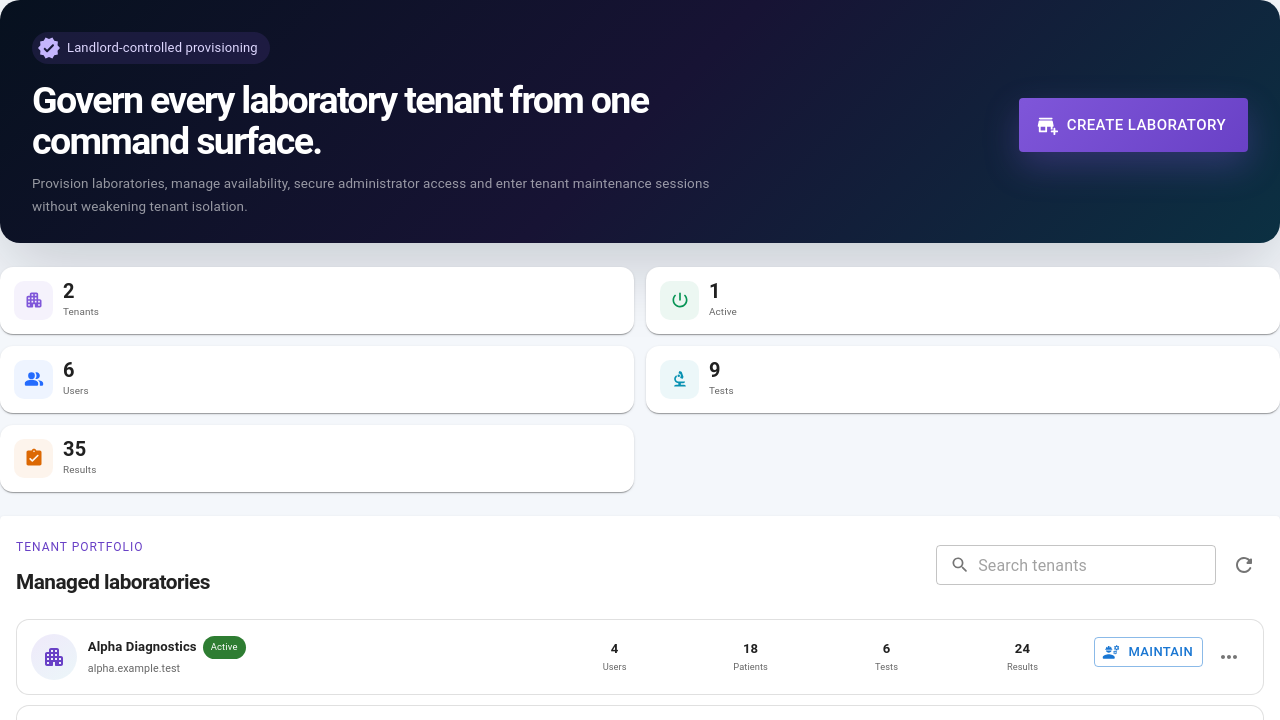
Test: AllTenants characterization › filters tenants case-insensitively by name, domain and database
In the field with placeholder "Search tenants": (1097, 565) [978,545,1216,585], type "BETA"
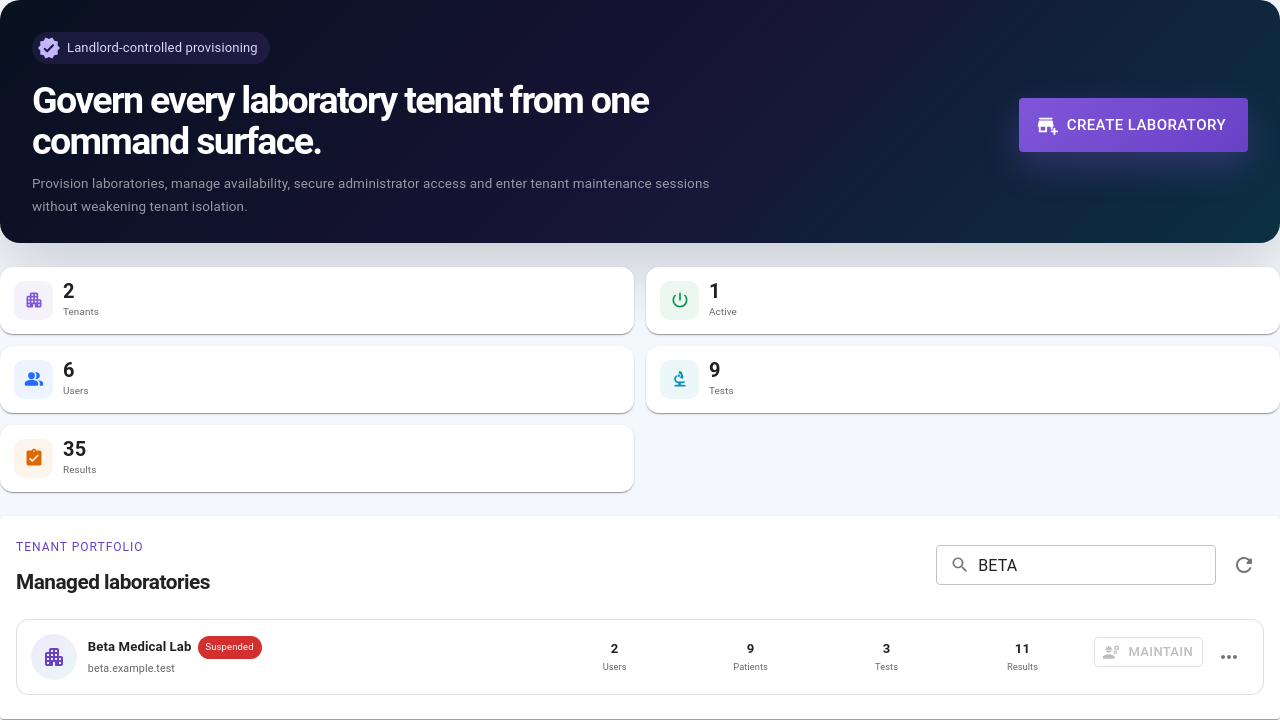
Expected: the text "Beta Medical Lab" is shown, [88,637,192,657]
Expected: the text "Alpha Diagnostics" is gone
Replace the text in the field with placeholder "Search tenants" with "TENANT_ALPHA": (1097, 565) [978,545,1216,585]
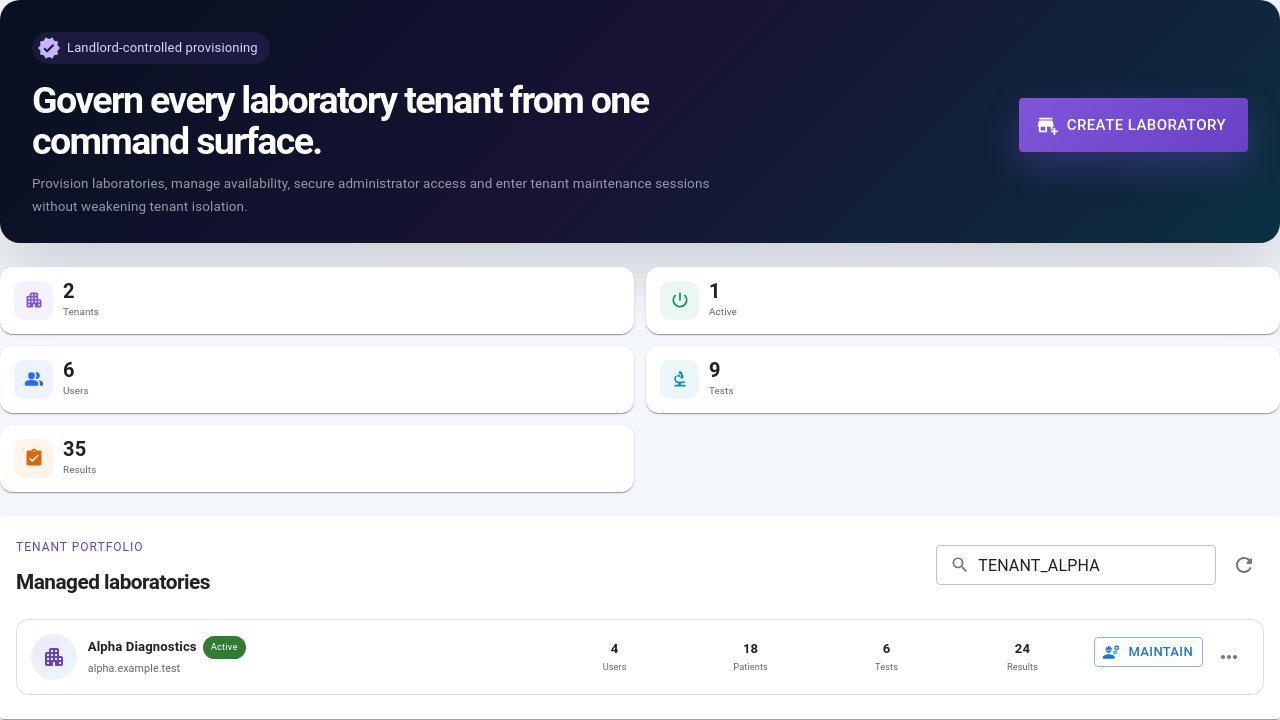
Expected: the text "Alpha Diagnostics" is shown, [88,637,197,657]
Expected: the text "Beta Medical Lab" is gone
